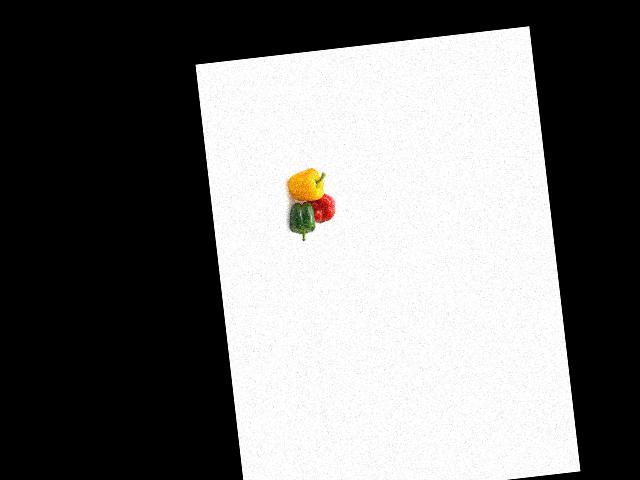bell_pepper: (286, 193, 320, 239)
